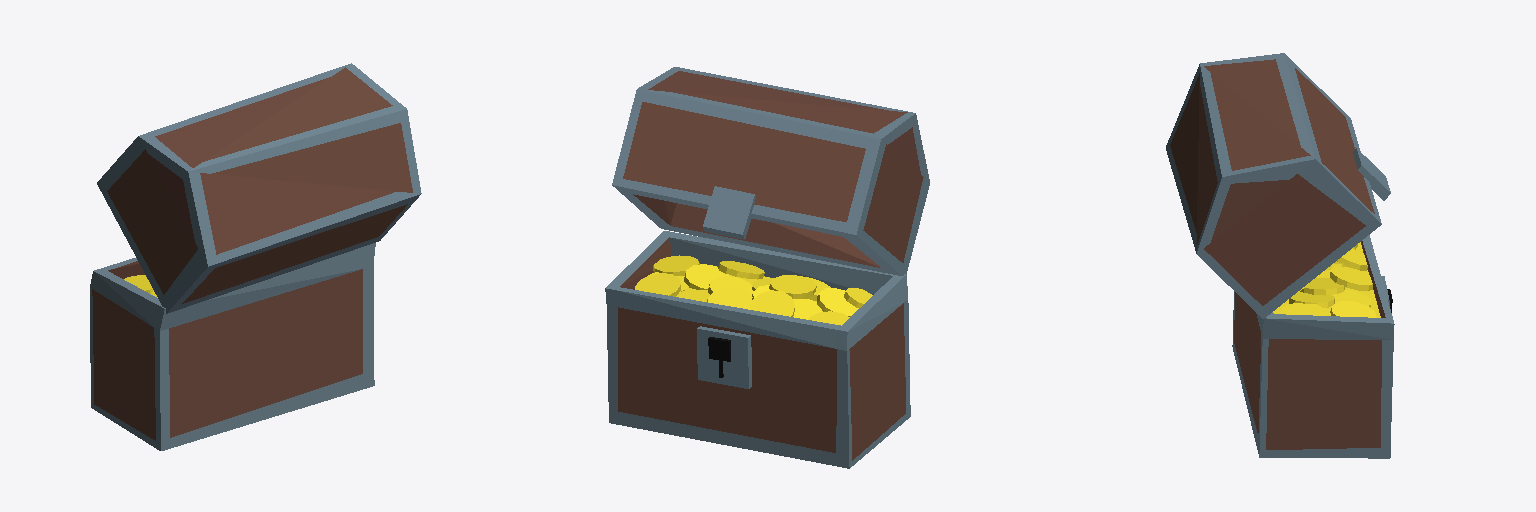
Rendered from model-triangulated.obj.
3 views of the same model, side by side, from view 1: azimuth 30°, elevation 25°; view 2: azimuth 150°, elevation 25°; view 3: azimuth 270°, elevation 25° (orthographic).
Parts seen in each view (by area): view 1: group[number redacted], group[number redacted]; view 2: group[number redacted], group[number redacted], group[number redacted], group[number redacted], group[number redacted], group[number redacted], group[number redacted], group[number redacted], group[number redacted], group[number redacted], group[number redacted], group[number redacted] (+1 smaller); view 3: group[number redacted], group[number redacted], group[number redacted], group[number redacted], group[number redacted], group[number redacted].
Boxes of the visible parts, x1,y1,x2,y2 form: group[number redacted]: [97, 63, 421, 313]; group[number redacted]: [90, 243, 375, 450]; group[number redacted]: [605, 231, 910, 468]; group[number redacted]: [612, 67, 929, 275]; group[number redacted]: [697, 326, 751, 388]; group[number redacted]: [703, 186, 755, 239]; group[number redacted]: [749, 290, 794, 316]; group[number redacted]: [769, 275, 816, 298]; group[number redacted]: [635, 273, 680, 296]; group[number redacted]: [817, 288, 858, 316]; group[number redacted]: [707, 287, 752, 309]; group[number redacted]: [684, 264, 728, 289]; group[number redacted]: [653, 255, 699, 275]; group[number redacted]: [718, 261, 764, 279]; group[number redacted]: [1166, 53, 1381, 318]; group[number redacted]: [1232, 235, 1394, 458]; group[number redacted]: [1353, 148, 1390, 200]; group[number redacted]: [1330, 267, 1372, 290]; group[number redacted]: [1330, 301, 1376, 317]; group[number redacted]: [1300, 278, 1344, 295].
Bounding box in the file's own units: 1.37 × 1.61 × 1.1.